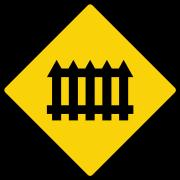Barrier Ahead: (16, 15, 171, 166)
